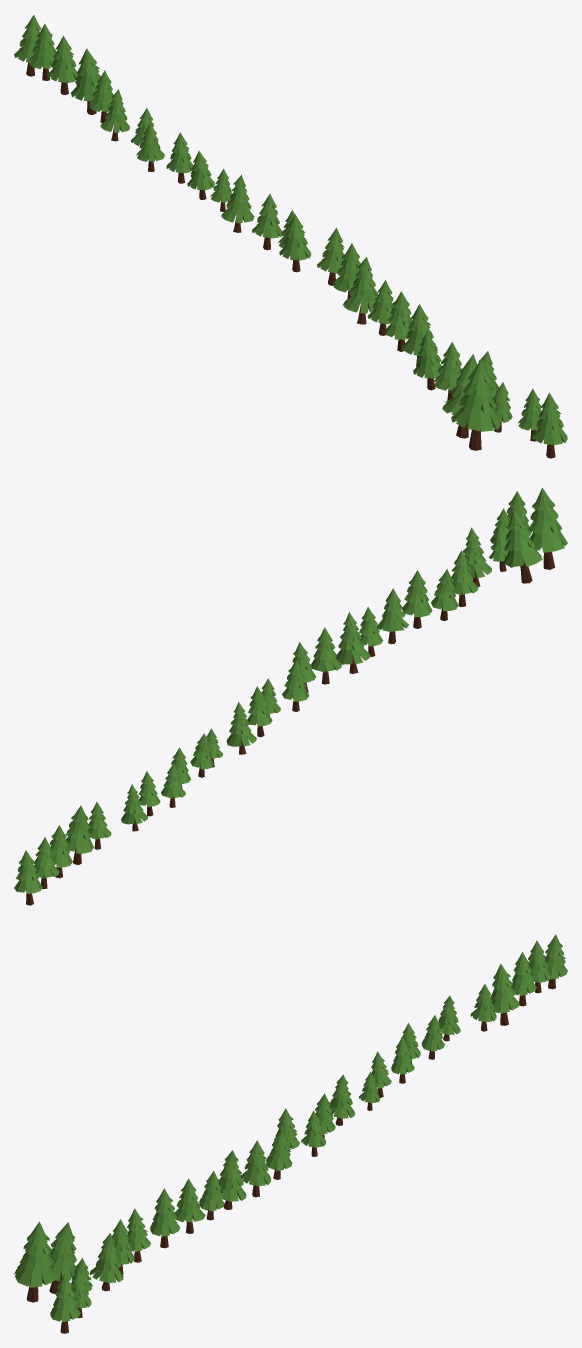
Rendered from treeL.fbx.
The picture shows the model from 3 angles, top to bottom: view 1: azimuth 30°, elevation 25°; view 2: azimuth 150°, elevation 25°; view 3: azimuth 330°, elevation 25°; orthographic projection. The views are drawn at different scales.
Visible parts, largest first — view 1: Pine_055, Pine_016, Pine_012, Pine_042, Pine_052, Pine_032, Pine_036, Pine_010, Pine_014, Pine_056, Pine_033, Pine_011 (+13 smaller); view 2: Pine_055, Pine_056, Pine_016, Pine_042, Pine_013, Pine_017, Pine_014, Pine_054, Pine_08, Pine_011, Pine_032, Pine_010 (+11 smaller); view 3: Pine_055, Pine_056, Pine_08, Pine_042, Pine_013, Pine_016, Pine_012, Pine_017, Pine_014, Pine_052, Pine_018, Pine_032 (+13 smaller).
Boxes of the visible parts, x1,y1,x2,y2 form: Pine_055: [451, 359, 500, 450]; Pine_016: [342, 257, 377, 324]; Pine_012: [531, 393, 567, 458]; Pine_042: [71, 48, 100, 114]; Pine_052: [47, 35, 78, 94]; Pine_032: [221, 175, 254, 232]; Pine_036: [279, 214, 311, 272]; Pine_010: [413, 332, 441, 390]; Pine_014: [385, 291, 412, 351]; Pine_056: [442, 354, 477, 438]; Pine_033: [252, 193, 282, 250]; Pine_011: [433, 342, 461, 400]; Pine_055: [527, 488, 567, 569]; Pine_056: [504, 509, 542, 583]; Pine_016: [335, 612, 370, 673]; Pine_042: [66, 805, 93, 864]; Pine_013: [402, 570, 432, 628]; Pine_017: [311, 627, 341, 684]; Pine_014: [376, 588, 408, 644]; Pine_054: [14, 850, 42, 905]; Pine_08: [462, 527, 491, 586]; Pine_011: [451, 550, 478, 606]; Pine_032: [226, 702, 256, 754]; Pine_010: [431, 569, 458, 621]; Pine_055: [14, 1221, 56, 1302]; Pine_056: [49, 1222, 76, 1293]; Pine_08: [90, 1233, 123, 1291]; Pine_042: [491, 963, 519, 1025]; Pine_013: [149, 1188, 180, 1248]; Pine_016: [218, 1150, 246, 1209]; Pine_012: [50, 1273, 80, 1333]; Pine_017: [240, 1140, 271, 1197]; Pine_014: [175, 1178, 205, 1233]; Pine_052: [511, 952, 536, 1006]; Pine_018: [266, 1129, 292, 1179]; Pine_032: [329, 1074, 355, 1125].
Size of the model in its own units: 170 by 162 by 1587.
1 material, 1 textured.
